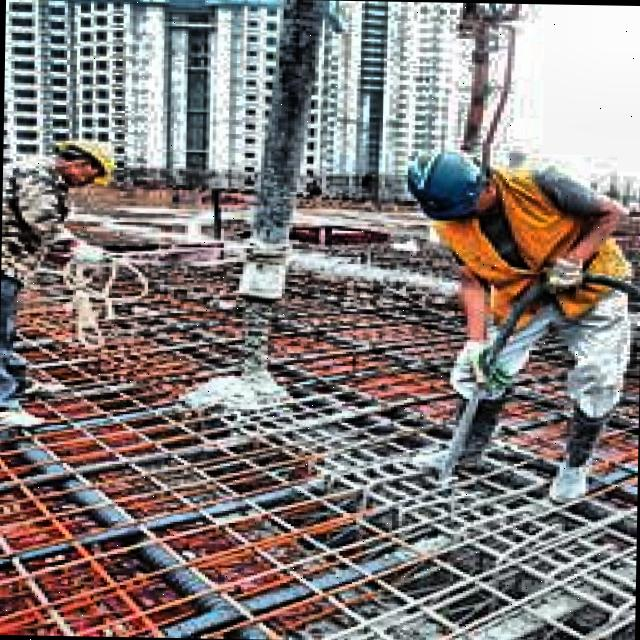helmet: (410, 138, 490, 232), (48, 133, 121, 186)
